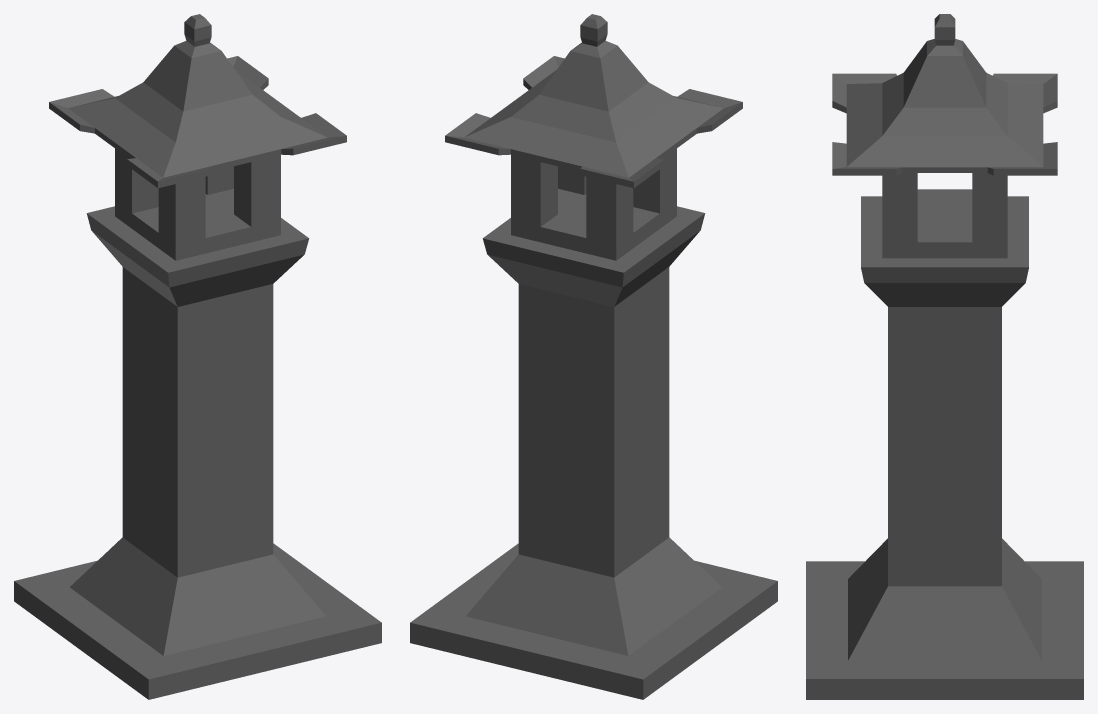
Rendered from NNJ0310027.fbx.
The picture shows the model from 3 angles, left to right: view 1: azimuth 30°, elevation 25°; view 2: azimuth 150°, elevation 25°; view 3: azimuth 270°, elevation 25°; orthographic projection. The views are drawn at different scales.
Visible parts, largest first — view 1: smNNJ0310027; view 2: smNNJ0310027; view 3: smNNJ0310027.
Boxes of the visible parts, bbox=[...] form: smNNJ0310027: bbox=[14, 14, 381, 699]; smNNJ0310027: bbox=[410, 14, 777, 699]; smNNJ0310027: bbox=[806, 14, 1083, 699].
Size of the model in its own units: 87.6 by 217 by 87.6.
1 material, 1 textured.
